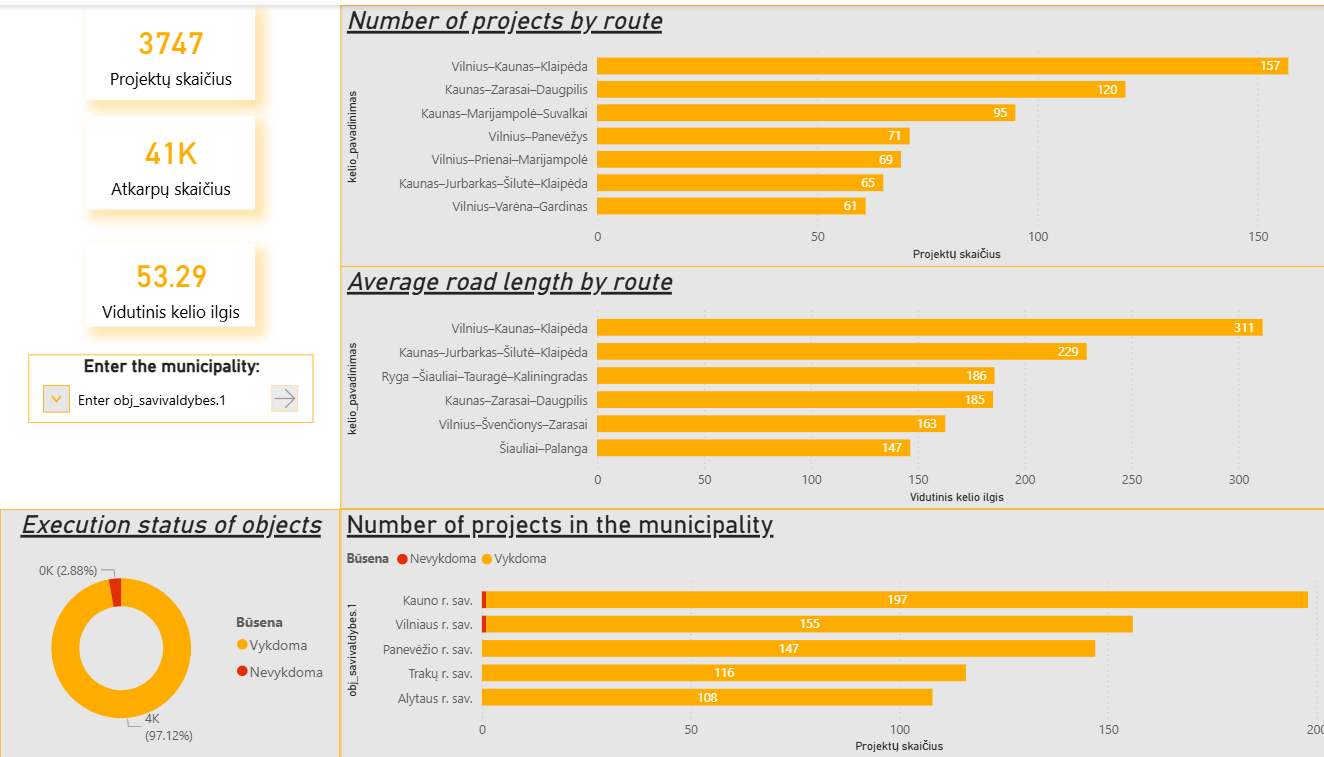

This screenshot's page, from the dashboard's own definition file:
{"tool":"powerbi","page":{"name":"Review","canvas":[1280,720],"ordinal":0},"visuals":[{"type":"card","fields":{"Values":["KelioDarbuProjektas.Projektų skaičius"]},"box":[81.1,0,162.2,90.7],"z":0},{"type":"card","fields":{"Values":["KelioAtkarpa.Atkarpų skaičius"]},"box":[81.1,106.6,162.2,89.1],"z":1000},{"type":"card","fields":{"Values":["KelioAtkarpa.Vidutinis kelio ilgis"]},"box":[81.1,227.5,162.2,79.5],"z":2000},{"type":"barChart","title":"Number of projects in the municipality","fields":{"Y":["KelioDarbuProjektas.Projektų skaičius"],"Series":["KelioDarbuProjektas.obj_ivykd_lt"],"Category":["KelioDarbuProjektas.obj_savivaldybes.1"]},"box":[324.5,482,956,238.6],"z":4000},{"type":"barChart","title":"Average road length by route","fields":{"Category":["KelioAtkarpa.kelio_pavadinimas"],"Y":["KelioAtkarpa.Vidutinis kelio ilgis"]},"box":[324.5,249.7,956,232.2],"z":5000},{"type":"textSlicer","title":"Enter the municipality:","fields":{"Values":["KelioDarbuProjektas.obj_savivaldybes.1"]},"box":[27,334,272,65.2],"z":6000},{"type":"donutChart","title":"Execution status of objects","fields":{"Category":["KelioDarbuProjektas.obj_ivykd_lt"],"Y":["KelioDarbuProjektas.Projektų skaičius"]},"box":[0,482,324.5,238.6],"z":8000},{"type":"clusteredBarChart","title":"Number of projects by route","fields":{"Category":["KelioAtkarpa.kelio_pavadinimas"],"Y":["KelioDarbuProjektas.Projektų skaičius"]},"box":[324.5,0,956,249.7],"z":9000}]}

Visuals, with their boxes in screenshot pixels (x1, y1, x2, y2), scaled from the page's 1280x720 canvas onto the 1324x757 screenshot:
card - KelioDarbuProjektas.Projektų skaičius: box(84, 0, 252, 95)
card - KelioAtkarpa.Atkarpų skaičius: box(84, 112, 252, 206)
card - KelioAtkarpa.Vidutinis kelio ilgis: box(84, 239, 252, 323)
"Number of projects in the municipality" barChart: box(336, 507, 1323, 756)
"Average road length by route" barChart: box(336, 263, 1323, 507)
"Enter the municipality:" textSlicer: box(28, 351, 309, 420)
"Execution status of objects" donutChart: box(0, 507, 336, 756)
"Number of projects by route" clusteredBarChart: box(336, 0, 1323, 263)
